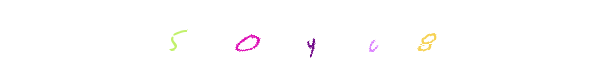0: (267, 0, 347, 80)
5: (208, 0, 288, 80)
8: (295, 0, 375, 80)
C: (271, 0, 351, 80)
Y: (271, 0, 351, 80)
